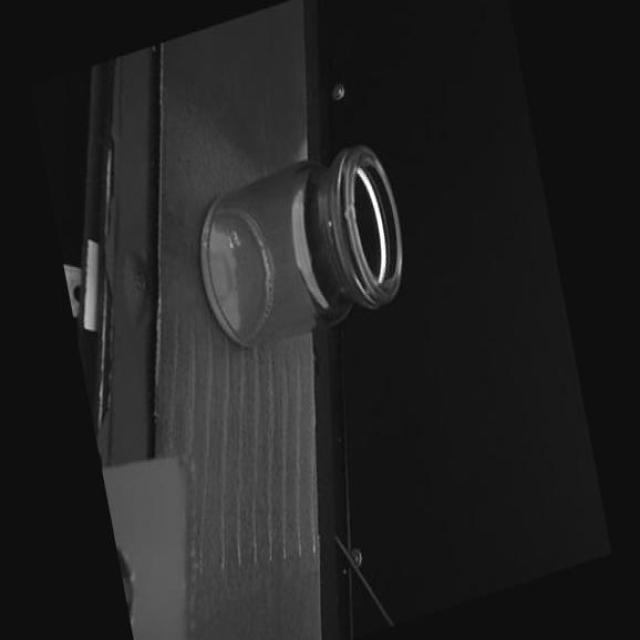defect: (341, 202, 358, 229), (325, 220, 332, 228)
glass: (187, 139, 416, 368)
